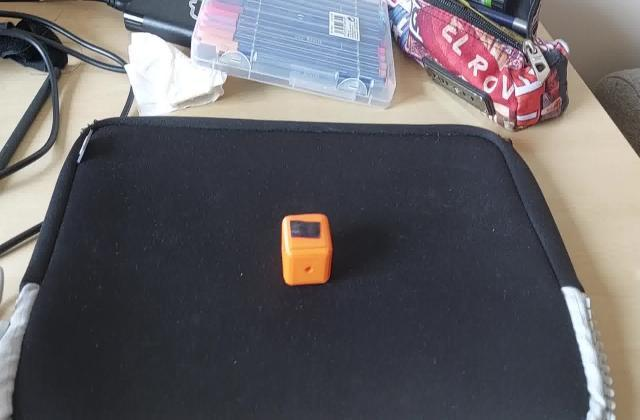black: (287, 219, 325, 244)
cube: (280, 212, 334, 288)
